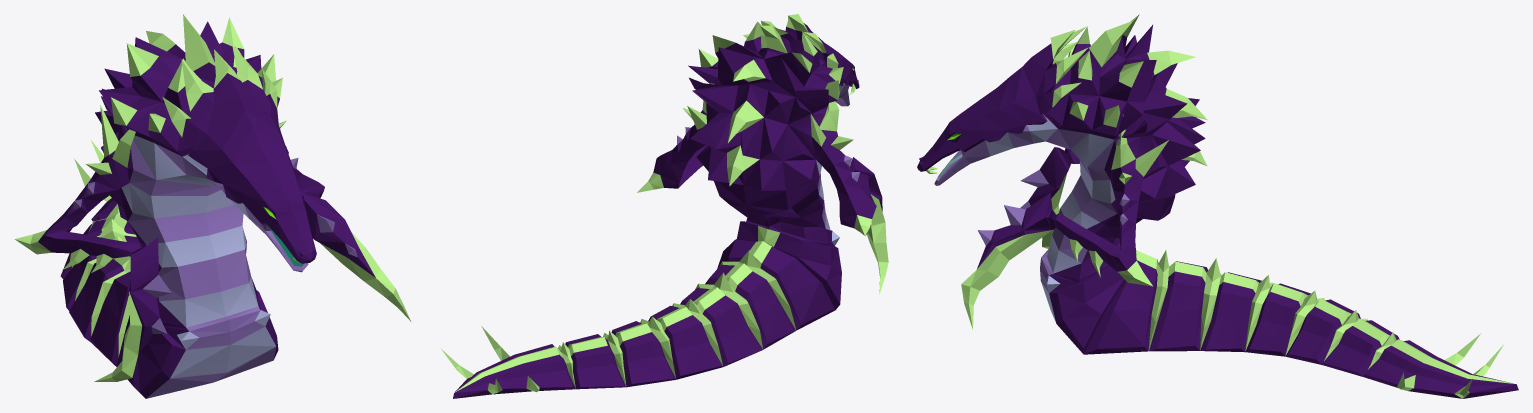
The model's file is Walk (26).obj.
3 views of the same model, side by side, from view 1: azimuth 30°, elevation 25°; view 2: azimuth 150°, elevation 25°; view 3: azimuth 270°, elevation 25° (orthographic). The views are drawn at different scales.
Parts seen in each view (by area): view 1: Alien_Serpent; view 2: Alien_Serpent; view 3: Alien_Serpent.
Boxes of the visible parts, x1,y1,x2,y2 form: Alien_Serpent: (14, 14, 411, 398); Alien_Serpent: (440, 14, 888, 398); Alien_Serpent: (917, 14, 1518, 398).
Size of the model in its own units: 225 by 217 by 377.
1 material, 1 textured.
